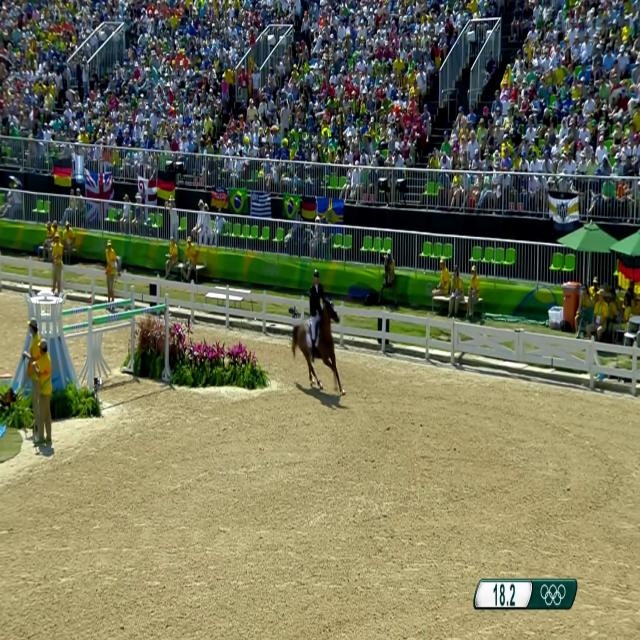Horse Running: (286, 275, 354, 403)
